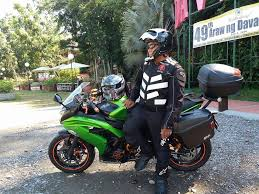helmet: (141, 29, 174, 58)
